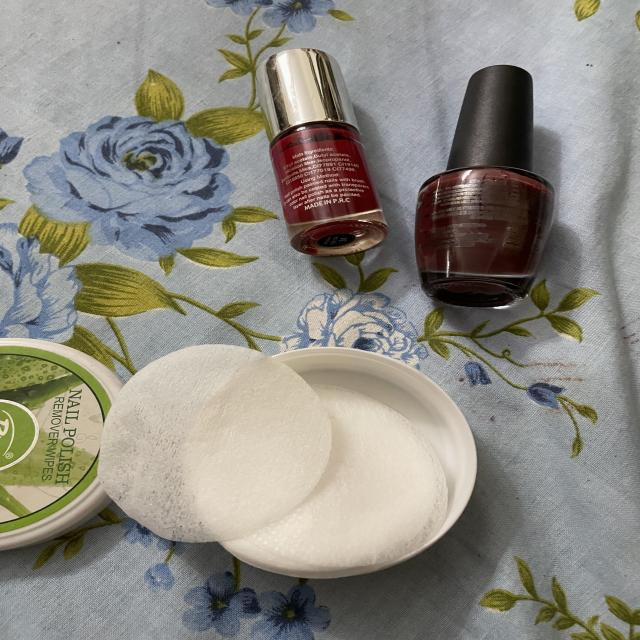nail polish: (410, 44, 578, 328), (242, 32, 400, 263)
nail polish remover: (94, 332, 484, 585)
